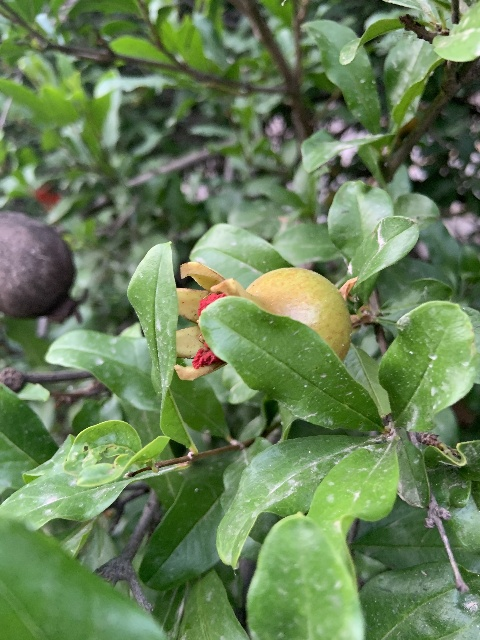early-fruit: (175, 260, 350, 382)
